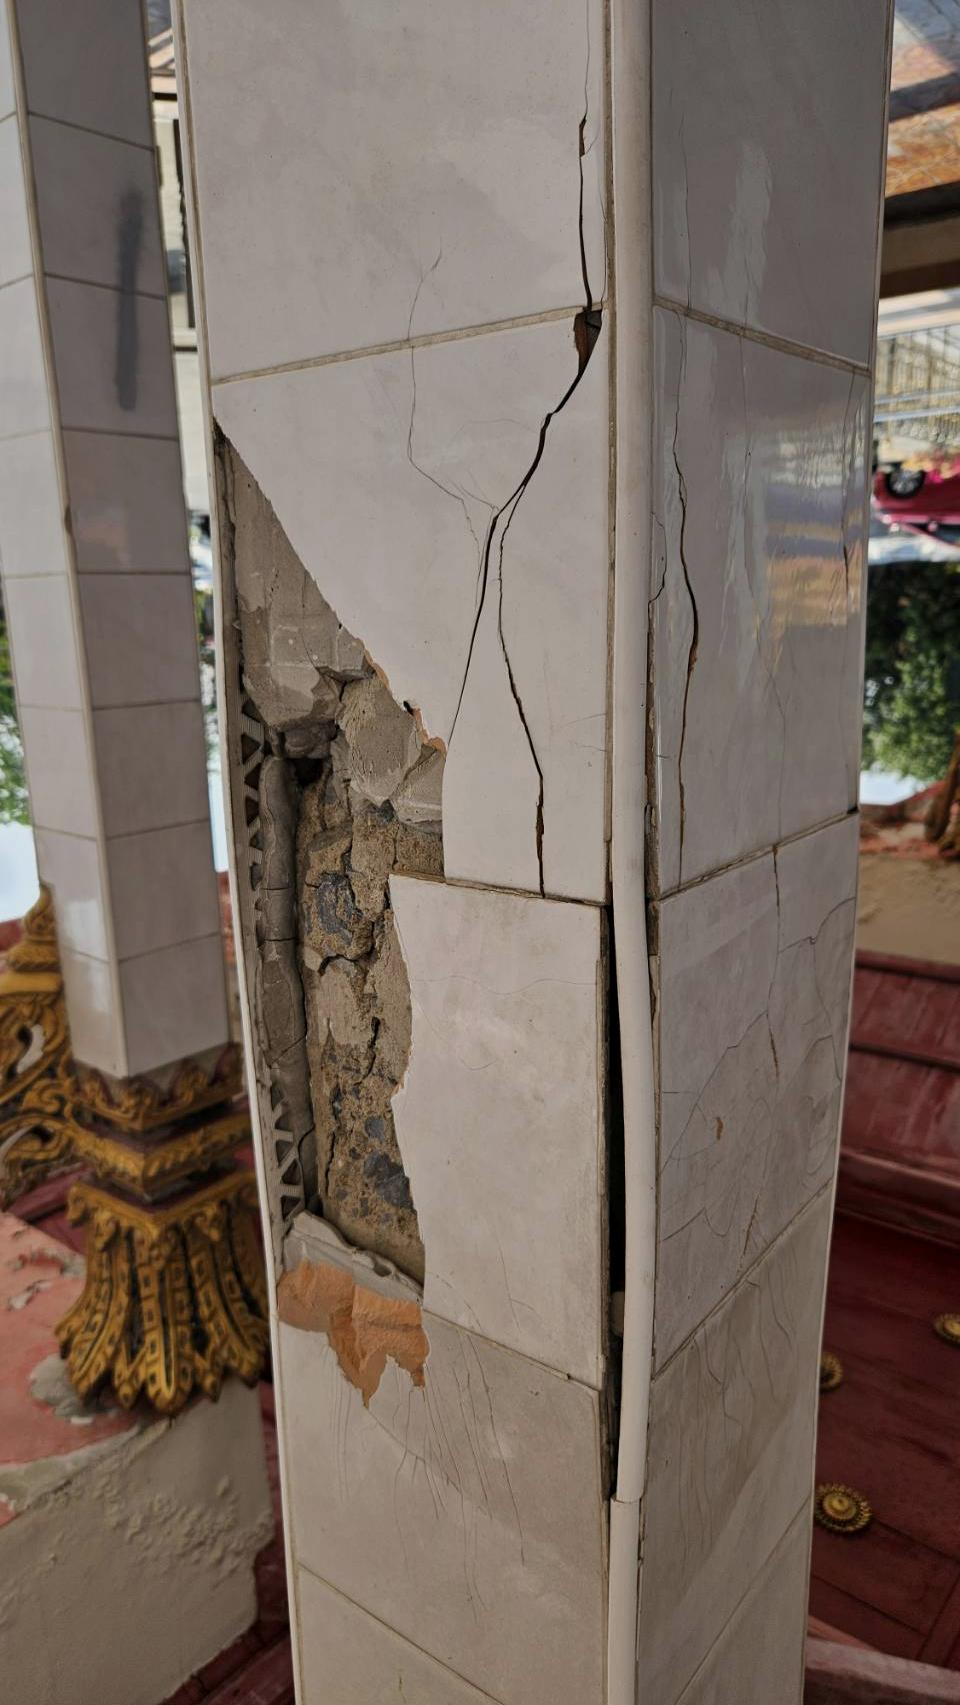High: (183, 109, 720, 1617)
